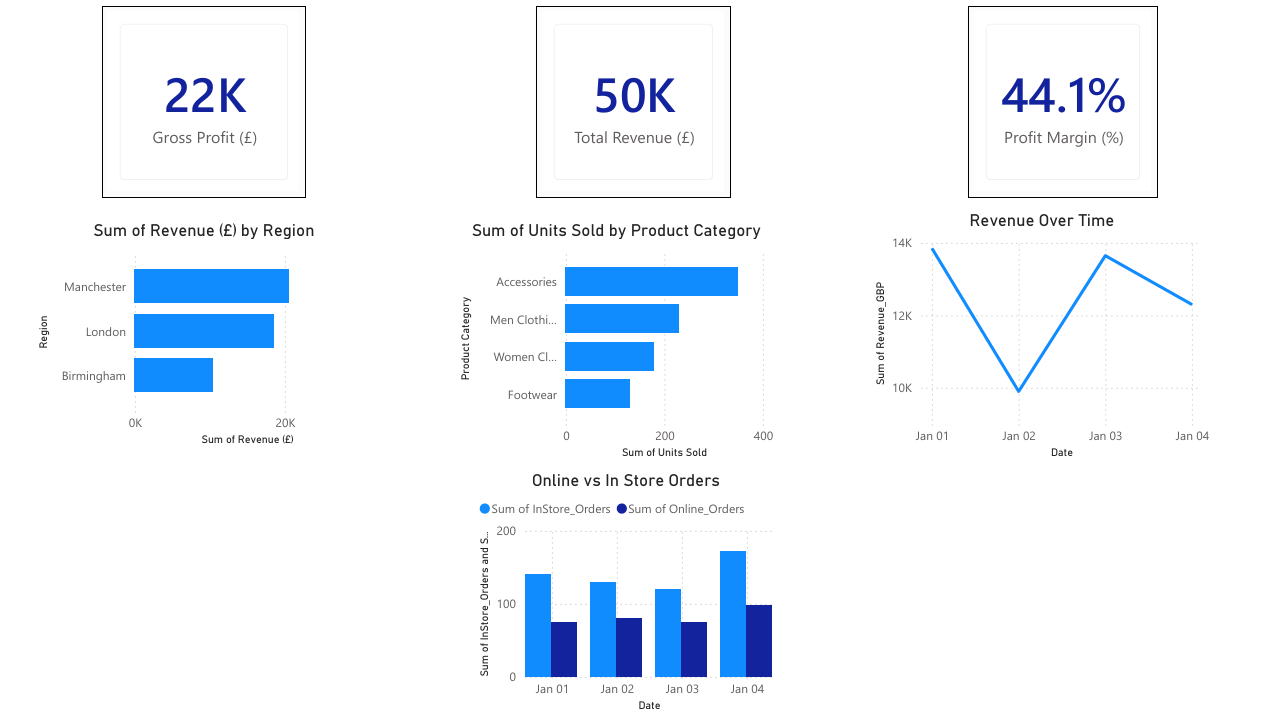

This screenshot's page, from the dashboard's own definition file:
{"tool":"powerbi","page":{"name":"Page 1","canvas":[1280,720],"ordinal":0},"visuals":[{"type":"cardVisual","fields":{"Data":["Sum(Retail_Data.Revenue_GBP)"]},"box":[534,0,195.5,191.6],"z":0},{"type":"cardVisual","fields":{"Data":["Retail_Data.Gross Profit"]},"box":[100.2,0,204.3,191.6],"z":1},{"type":"cardVisual","fields":{"Data":["Retail_Data.Profit Margin (%)"]},"box":[966.3,0,189.9,191.6],"z":2},{"type":"clusteredBarChart","fields":{"Category":["Retail_Data.Region"],"Y":["Sum(Retail_Data.Revenue_GBP)"]},"box":[31.1,214,341.4,229.5],"z":3},{"type":"clusteredBarChart","fields":{"Category":["Retail_Data.Product_Category"],"Y":["Sum(Retail_Data.Units_Sold)"]},"box":[453.3,214,322.9,243.2],"z":4},{"type":"lineChart","title":"Revenue Over Time","fields":{"Category":["Retail_Data.Date"],"Y":["Sum(Retail_Data.Revenue_GBP)"]},"box":[867.6,204.3,344.3,252.9],"z":5},{"type":"clusteredColumnChart","title":"Online vs In Store Orders","fields":{"Y":["Sum(Retail_Data.InStore_Orders)","Sum(Retail_Data.Online_Orders)"],"Category":["Retail_Data.Date"]},"box":[471.7,464,304.4,246.1],"z":6}]}

Visuals, with their boxes in screenshot pixels (x1, y1, x2, y2), scaled from the page's 1280x720 canvas onto the 1266x725 screenshot:
cardVisual - Sum(Retail_Data.Revenue_GBP): box(528, 0, 722, 193)
cardVisual - Retail_Data.Gross Profit: box(99, 0, 301, 193)
cardVisual - Retail_Data.Profit Margin (%): box(956, 0, 1144, 193)
clusteredBarChart - Retail_Data.Region x Sum(Retail_Data.Revenue_GBP): box(31, 215, 368, 447)
clusteredBarChart - Retail_Data.Product_Category x Sum(Retail_Data.Units_Sold): box(448, 215, 768, 460)
"Revenue Over Time" lineChart: box(858, 206, 1199, 460)
"Online vs In Store Orders" clusteredColumnChart: box(467, 467, 768, 715)
